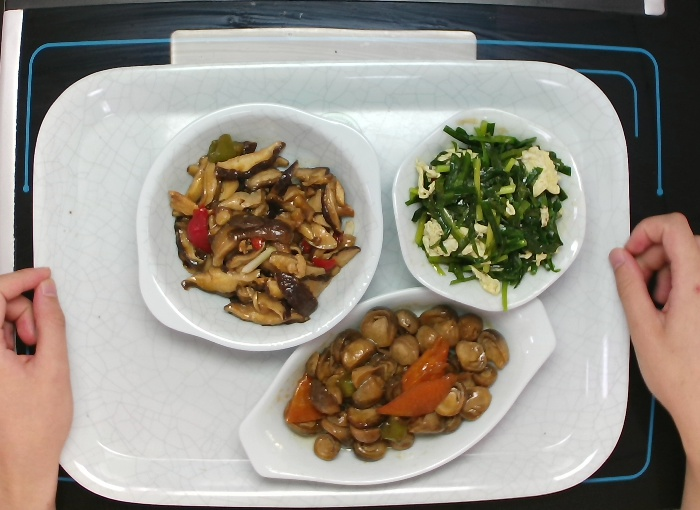JYsf-Shuang_Er_Wan: (133, 100, 387, 355)
JYsf-Yu_Pan: (236, 285, 560, 489)
WCQzf-Hua_Duo_Wan: (389, 104, 588, 315)
